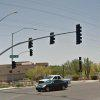Traffic light: (23, 24, 94, 50)
